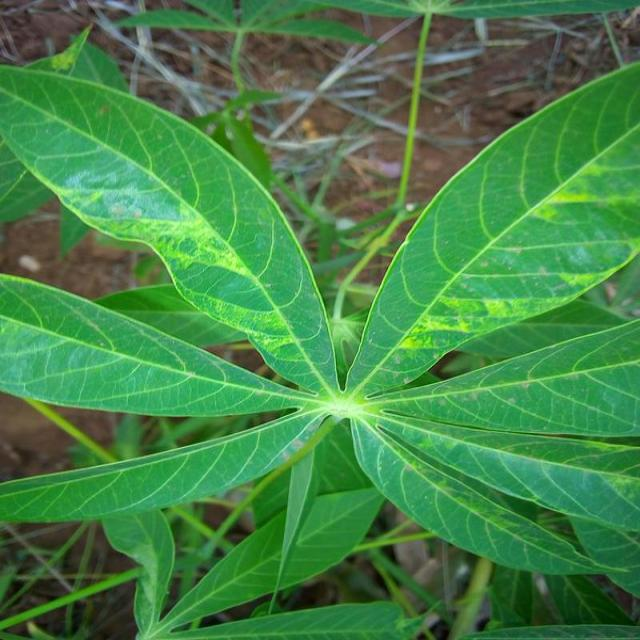cassava leaf: (0, 31, 638, 625), (0, 27, 340, 401), (344, 59, 638, 401)
